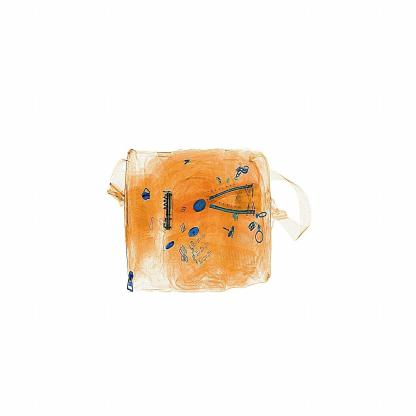scissors: (160, 188, 175, 238)
